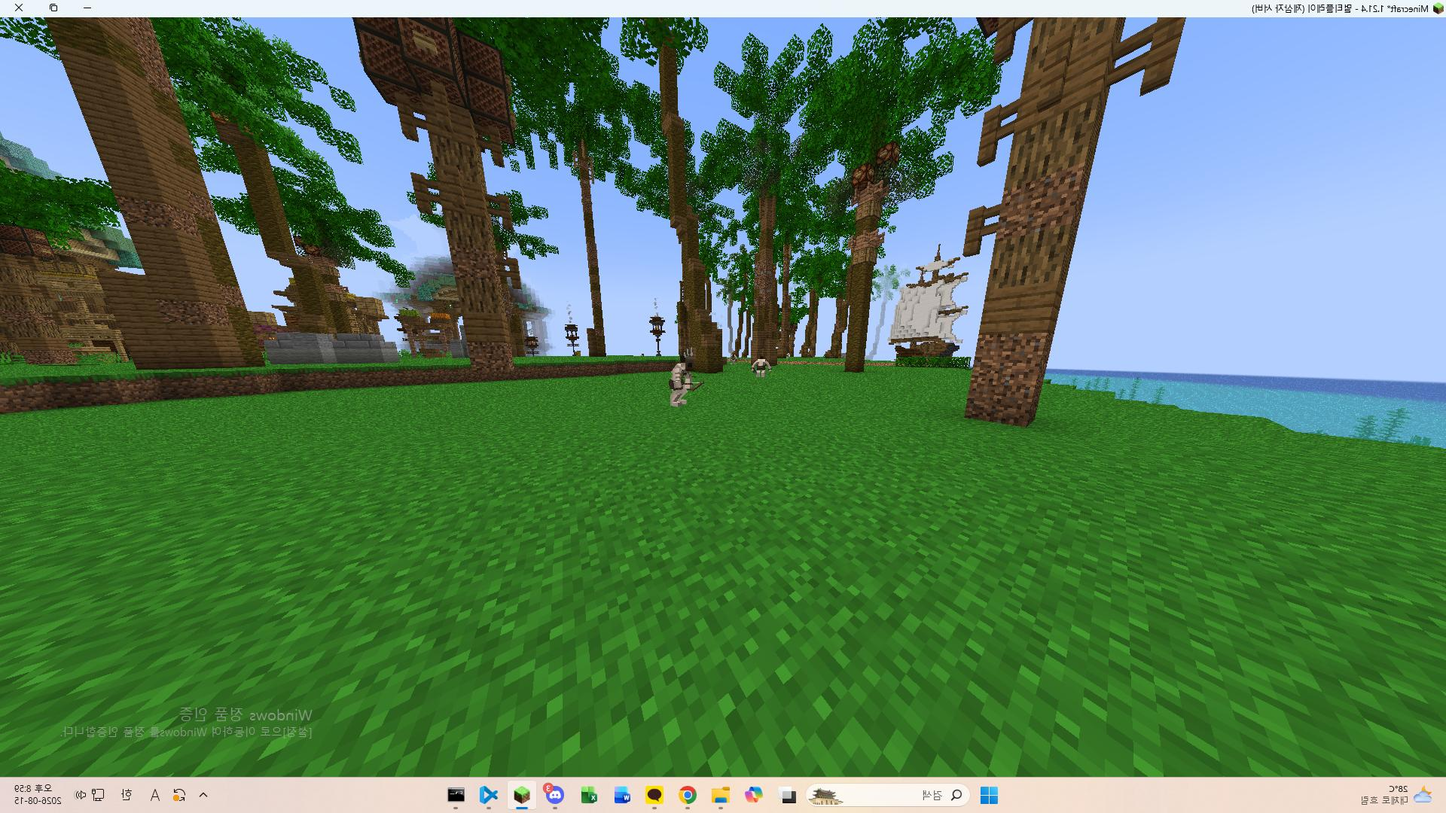bow_indian: (660, 352, 710, 420)
